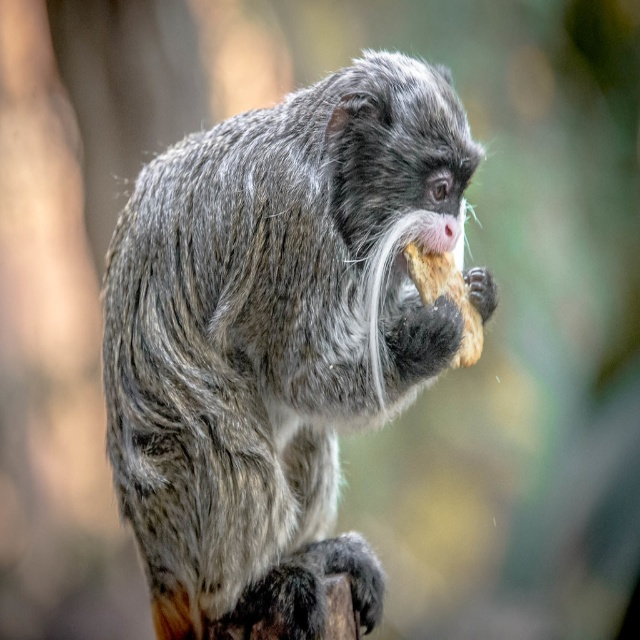Monkey: (98, 46, 501, 640)
